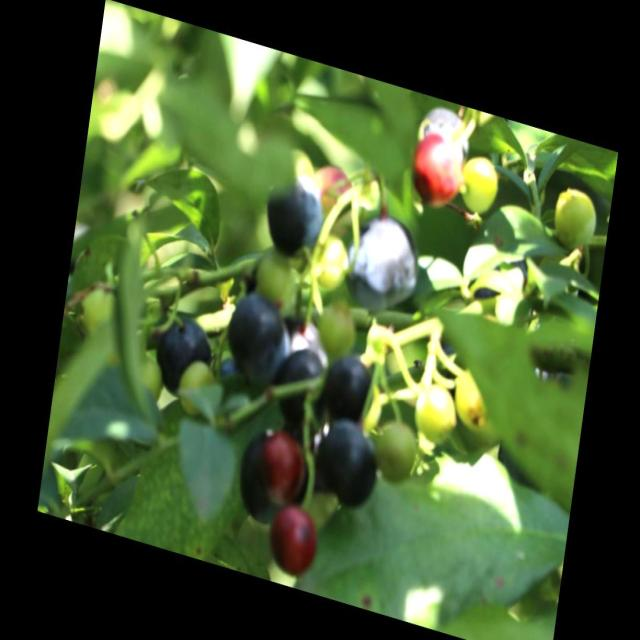blueberry: (339, 202, 425, 324), (234, 423, 314, 533), (260, 165, 326, 262), (225, 290, 291, 387), (153, 306, 215, 406), (320, 416, 381, 513), (270, 336, 331, 431), (321, 348, 377, 428)
blueberry-halfripe: (261, 497, 324, 584), (410, 130, 468, 210), (258, 435, 304, 497)
blueberry-unripe: (371, 412, 424, 482), (409, 376, 458, 448), (551, 183, 599, 254), (448, 364, 496, 434), (458, 147, 503, 218)
